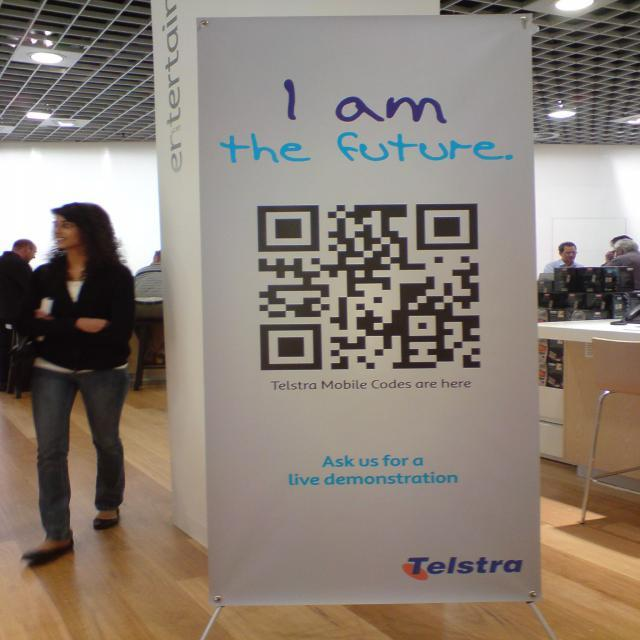qrcode: (258, 205, 482, 372)
